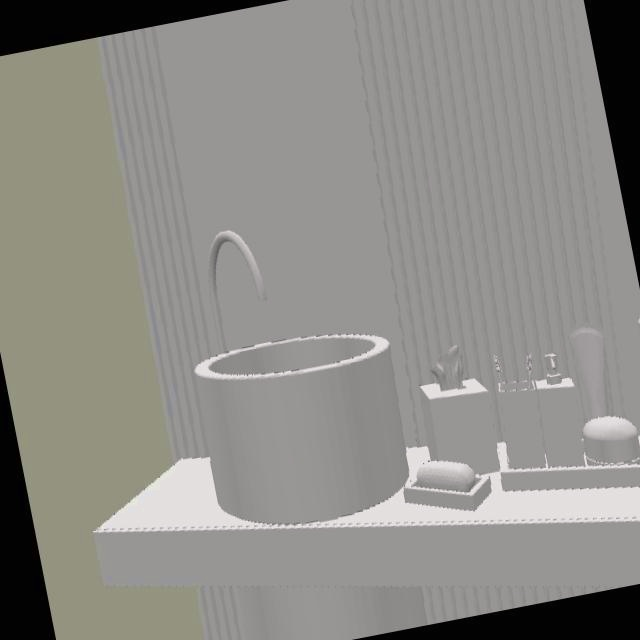washbasin: (192, 331, 410, 527)
